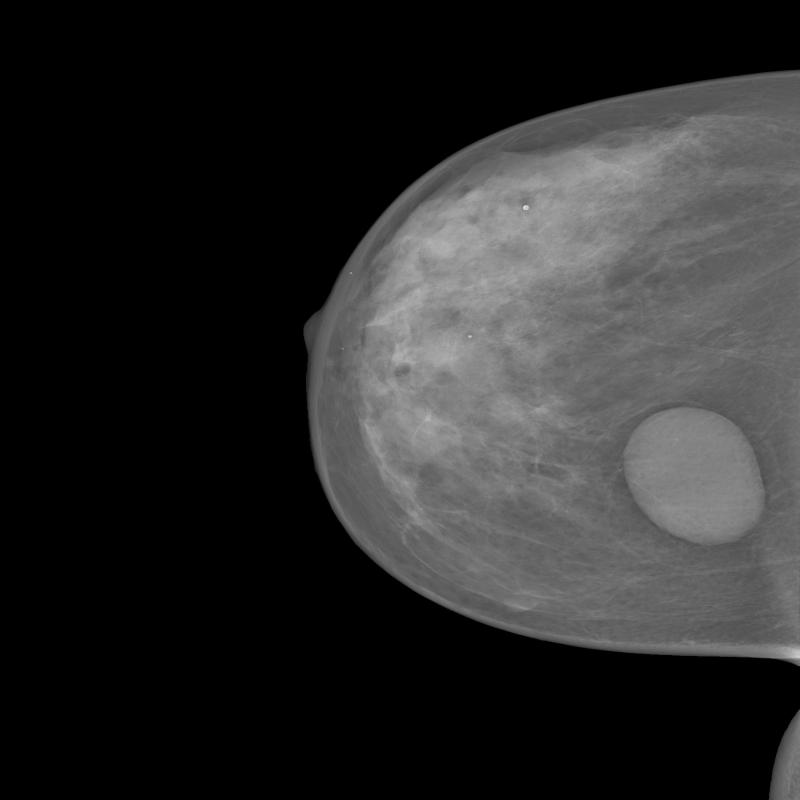Mass: (582, 370, 800, 584)
